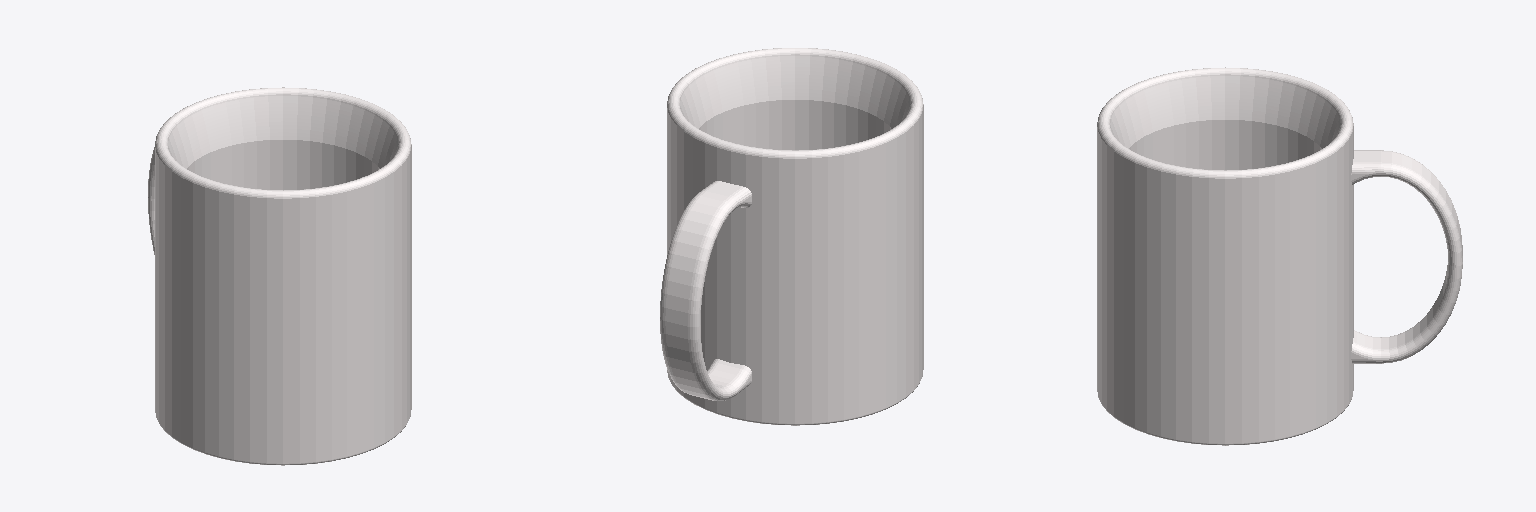
3 views of the same model, side by side, from view 1: azimuth 30°, elevation 25°; view 2: azimuth 150°, elevation 25°; view 3: azimuth 270°, elevation 25° (orthographic).
Visible parts, largest first — view 1: model_normalized.002; view 2: model_normalized.002; view 3: model_normalized.002.
Part boxes in pixels (bbox=[...]): model_normalized.002: bbox=[148, 87, 411, 465]; model_normalized.002: bbox=[660, 48, 923, 425]; model_normalized.002: bbox=[1097, 67, 1462, 445].
Bounding box in the file's own units: 0.4763 × 0.5589 × 0.6788.